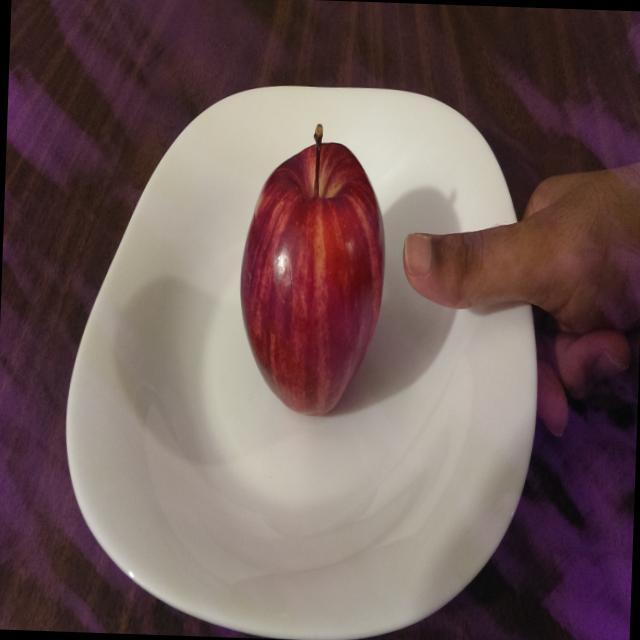Apple: (230, 112, 396, 424)
Finger: (394, 216, 496, 322)
